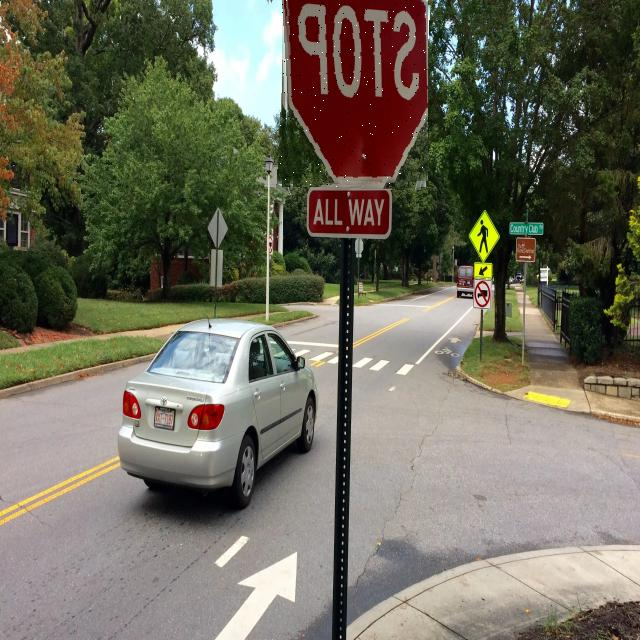stop: (279, 0, 428, 188)
